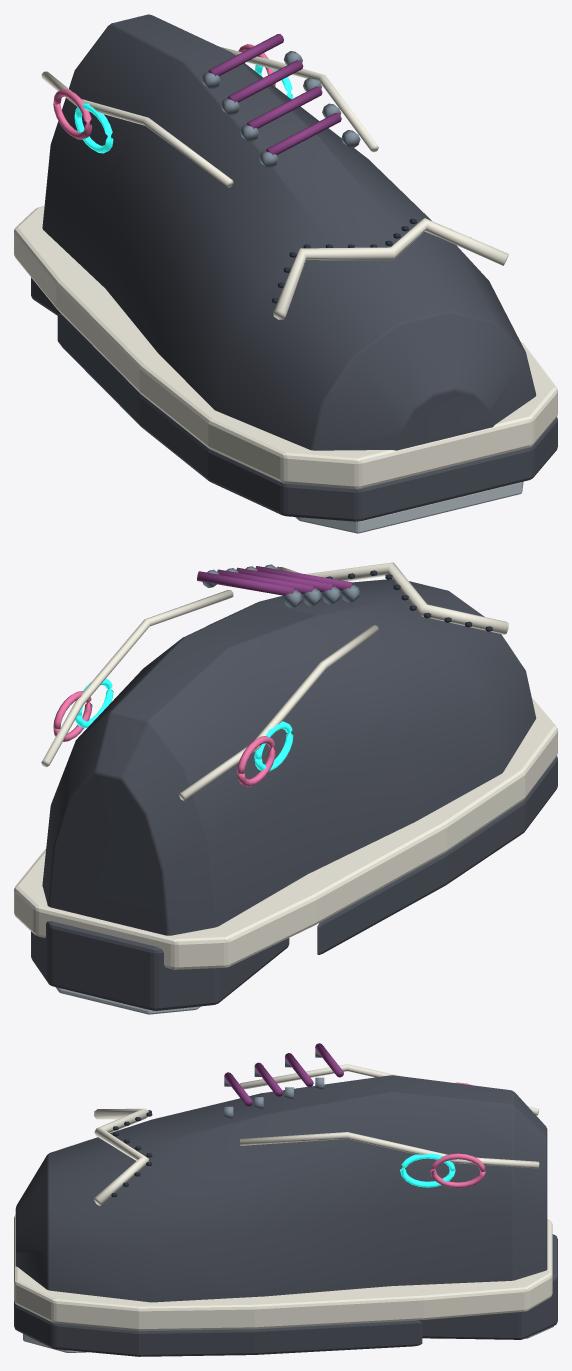
Rendered from BeatLinkTapstepOxfords.glb.
The picture shows the model from 3 angles, top to bottom: view 1: azimuth 30°, elevation 25°; view 2: azimuth 150°, elevation 25°; view 3: azimuth 270°, elevation 25°; orthographic projection. The views are drawn at different scales.
Visible parts, largest first — view 1: BeatLinkTapstepOxfords_StaticSurfaces; view 2: BeatLinkTapstepOxfords_StaticSurfaces; view 3: BeatLinkTapstepOxfords_StaticSurfaces.
Boxes of the visible parts, x1,y1,x2,y2 form: BeatLinkTapstepOxfords_StaticSurfaces: (14,14,557,533); BeatLinkTapstepOxfords_StaticSurfaces: (14,562,557,1014); BeatLinkTapstepOxfords_StaticSurfaces: (14,1043,557,1356).
Bounding box in the file's own units: 0.162 × 0.1583 × 0.305.
